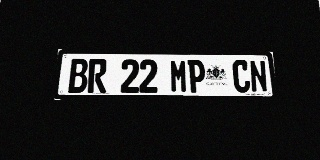2: (121, 59, 139, 93), (139, 59, 157, 93)
B: (68, 59, 88, 93)
C: (232, 60, 251, 93)
M: (170, 60, 188, 93)
N: (249, 60, 268, 92)
P: (187, 60, 206, 93)
R: (87, 59, 107, 93)
